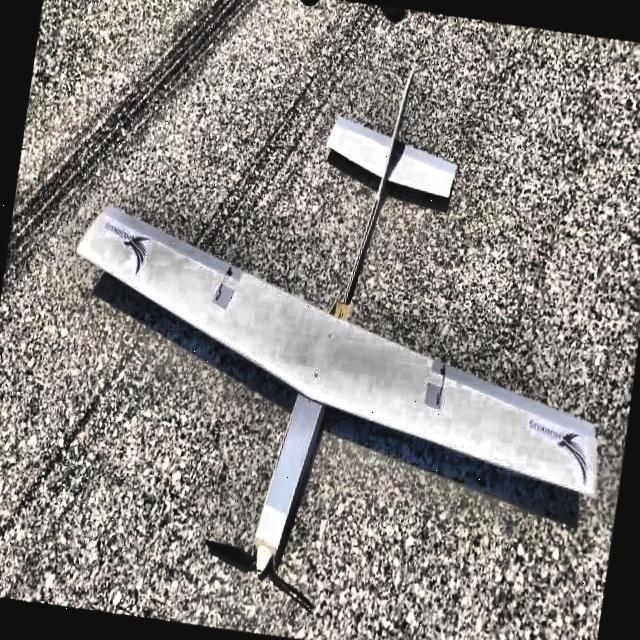iha: (49, 8, 640, 634)
